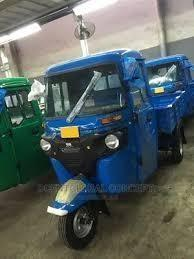keke: (39, 49, 193, 252)
